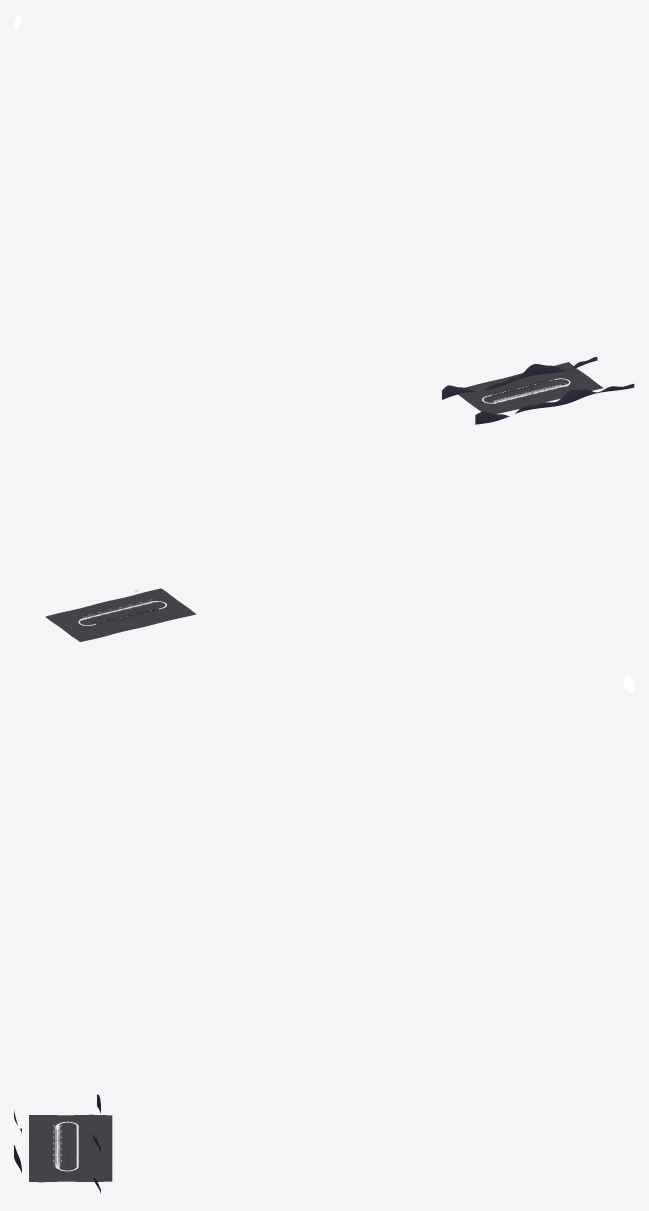
Rendered from sambadrome.glb.
3 renders of one model, top to bottom at view 1: azimuth 30°, elevation 25°; view 2: azimuth 210°, elevation 25°; view 3: azimuth 270°, elevation 25°, orthographic. The views are drawn at different scales.
Parts seen in each view (by area): view 1: Peaks, Land_004, Land_001, Land_005, Land_002; view 2: Land_001, Land_004, Land_002, Land_005, Land_003, Land_006, Land_000; view 3: Land_001, Land_004, Land_005, Land_002.
Boxes of the visible parts, left/top/right/bottom form: Peaks: left=442, top=357, right=634, bottom=424; Land_004: left=494, top=362, right=601, bottom=410; Land_001: left=457, top=363, right=570, bottom=414; Land_005: left=458, top=375, right=552, bottom=414; Land_002: left=491, top=362, right=602, bottom=413; Land_001: left=78, top=588, right=194, bottom=641; Land_004: left=47, top=594, right=154, bottom=641; Land_002: left=46, top=591, right=157, bottom=641; Land_005: left=96, top=589, right=195, bottom=628; Land_003: left=94, top=588, right=195, bottom=624; Land_006: left=48, top=602, right=142, bottom=641; Land_000: left=45, top=589, right=169, bottom=638; Land_001: left=29, top=1114, right=112, bottom=1181; Land_004: left=29, top=1126, right=112, bottom=1182; Land_005: left=29, top=1114, right=112, bottom=1162; Land_002: left=29, top=1120, right=112, bottom=1182.
Size of the model in its own units: 3631 by 2572 by 4567.
